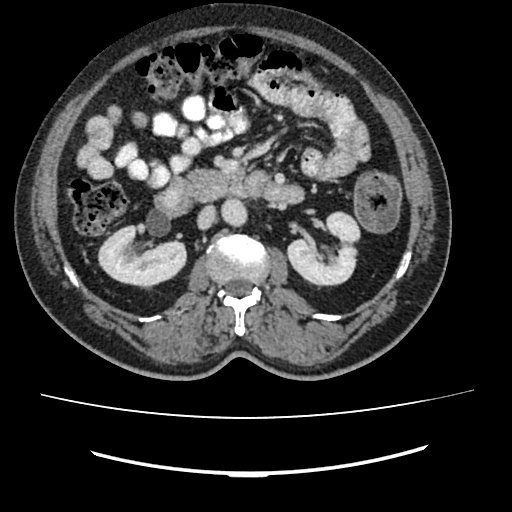aorta: (220, 198, 247, 228)
